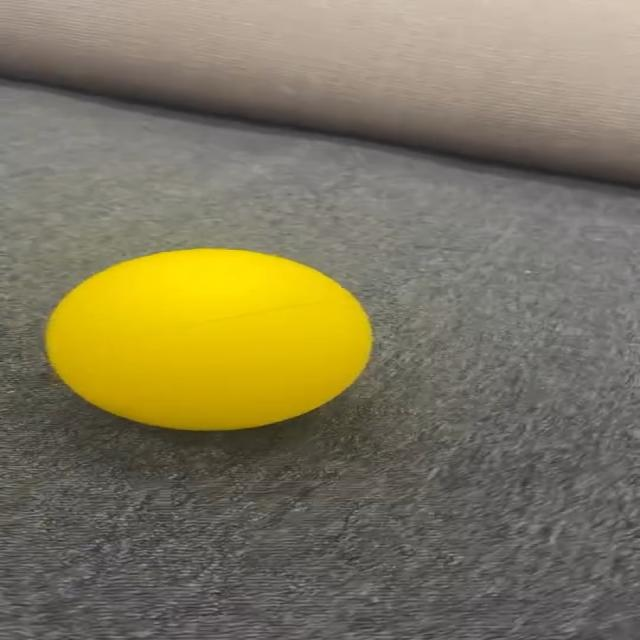Fuels: (48, 249, 374, 429)
